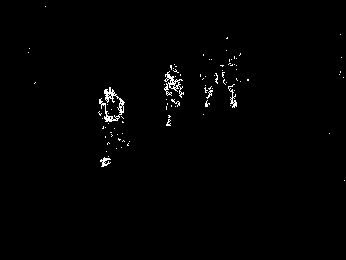person: (99, 87, 125, 167), (164, 61, 184, 127), (222, 58, 244, 110), (199, 57, 219, 107)
